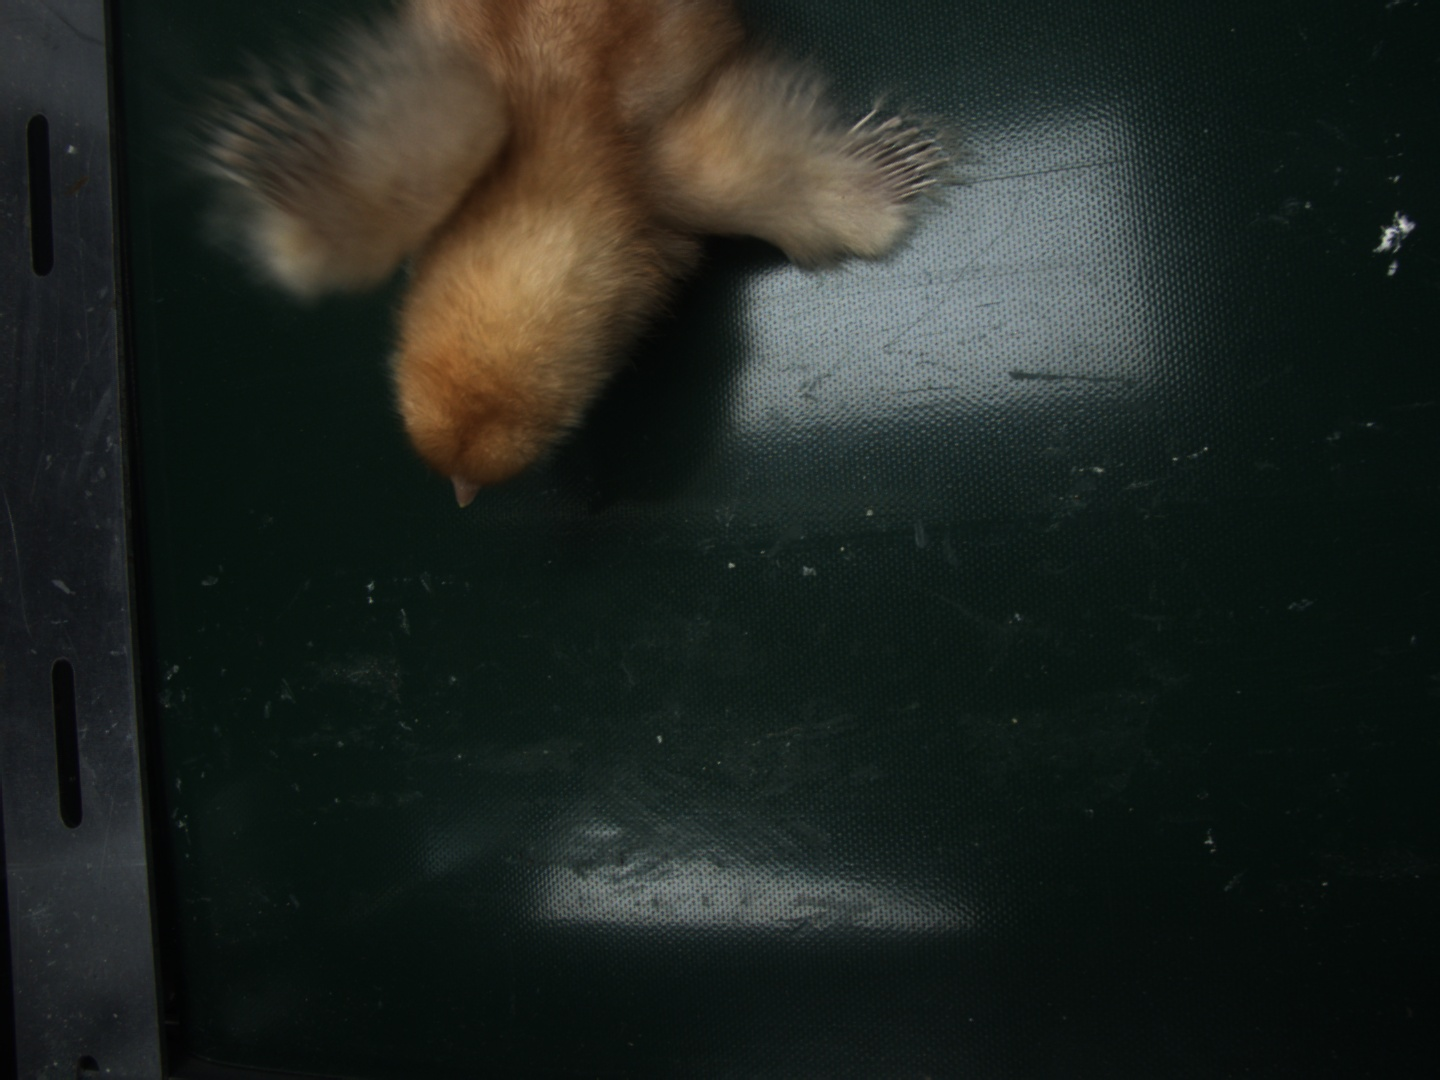female: (838, 106, 954, 206)
